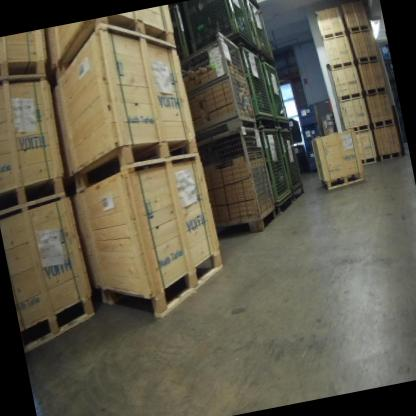pallet: (384, 55, 391, 62)
stillage: (191, 121, 282, 248), (173, 25, 256, 137), (181, 0, 259, 61), (257, 121, 298, 221), (236, 39, 278, 132), (277, 120, 311, 203), (260, 52, 292, 135), (242, 0, 276, 65), (165, 2, 194, 65), (233, 0, 267, 10)
